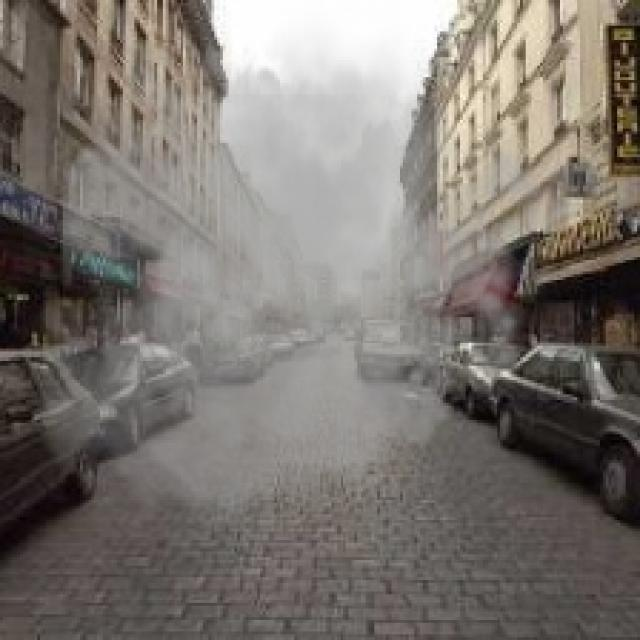Smoke: (23, 0, 560, 546)
